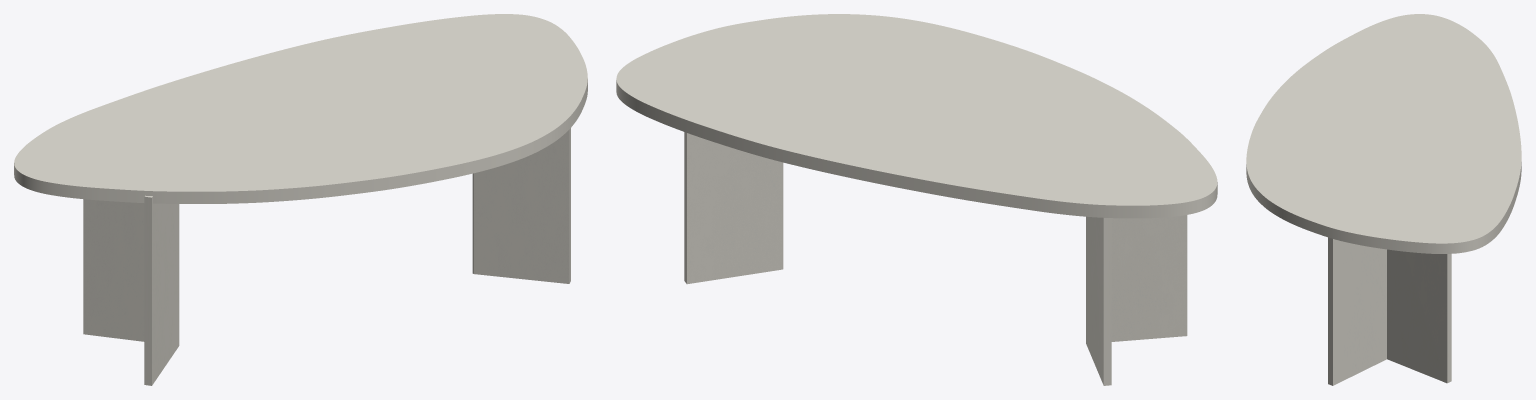
File: pale_pebbletop_standard_valleyv.glb
3 renders of one model, left to right at view 1: azimuth 30°, elevation 25°; view 2: azimuth 150°, elevation 25°; view 3: azimuth 270°, elevation 25°, orthographic. The views are drawn at different scales.
Parts seen in each view (by area): view 1: standard_pebbletop, valleyv; view 2: standard_pebbletop, valleyv; view 3: standard_pebbletop, valleyv.
Boxes of the visible parts, x1,y1,x2,y2 form: standard_pebbletop: (14, 14, 587, 203); valleyv: (83, 128, 570, 385); standard_pebbletop: (616, 14, 1217, 218); valleyv: (684, 132, 1187, 385); standard_pebbletop: (1246, 14, 1521, 253); valleyv: (1328, 237, 1451, 385).
Size of the model in its own units: 7.5 by 2.5 by 3.8.
1 material, 1 textured.
